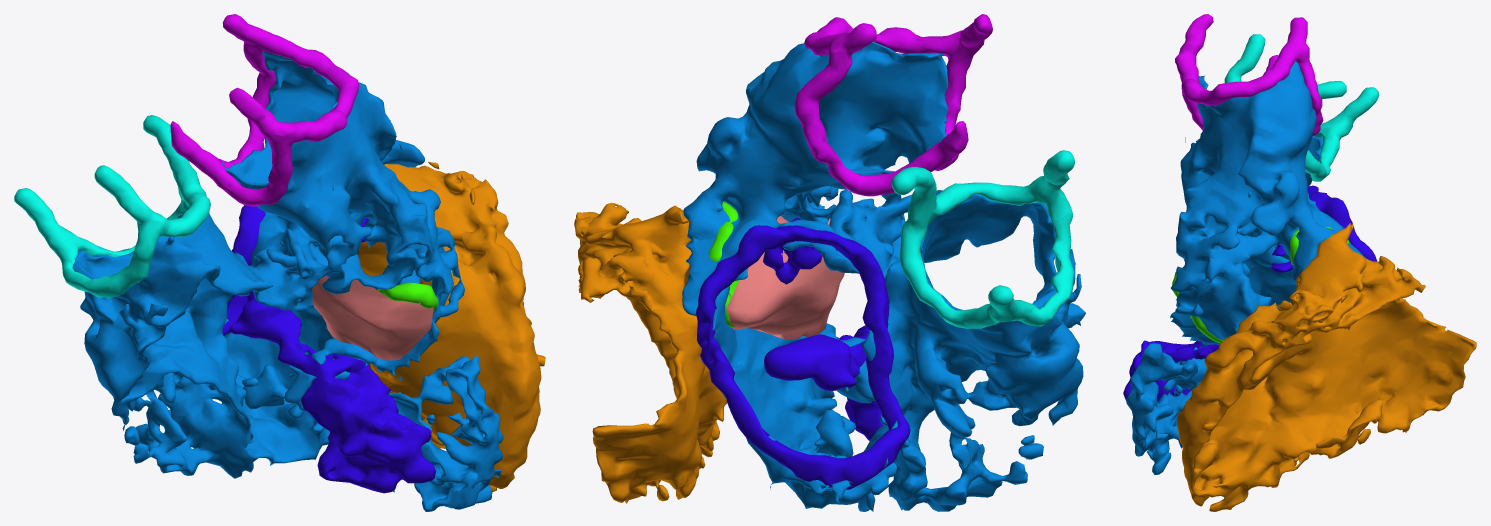
The model's file is {S,D,L} DORV, SubAoVSD 3.gltf.
3 views of the same model, side by side, from view 1: azimuth 30°, elevation 25°; view 2: azimuth 150°, elevation 25°; view 3: azimuth 270°, elevation 25° (orthographic). The views are drawn at different scales.
Parts seen in each view (by area): view 1: right ventricle, left ventricle, tv, aov, pv, Baffle, vsd; view 2: right ventricle, left ventricle, tv, pv, aov, Baffle, vsd; view 3: left ventricle, right ventricle, aov, pv, tv, vsd.
Part boxes in pixels (left/top/right/bottom): right ventricle: left=72, top=51, right=503, bottom=511; left ventricle: left=358, top=161, right=545, bottom=492; tv: left=174, top=205, right=435, bottom=493; aov: left=170, top=14, right=359, bottom=206; pv: left=14, top=115, right=210, bottom=297; Baffle: left=312, top=275, right=433, bottom=360; vsd: left=377, top=282, right=438, bottom=320; right ventricle: left=682, top=41, right=1085, bottom=511; left ventricle: left=574, top=202, right=727, bottom=503; tv: left=696, top=218, right=910, bottom=489; pv: left=891, top=150, right=1074, bottom=328; aov: left=794, top=14, right=992, bottom=196; Baffle: left=726, top=215, right=844, bottom=339; vsd: left=708, top=201, right=739, bottom=327; left ventricle: left=1177, top=223, right=1476, bottom=511; right ventricle: left=1126, top=61, right=1366, bottom=474; aov: left=1175, top=14, right=1323, bottom=136; pv: left=1224, top=34, right=1379, bottom=181; tv: left=1123, top=185, right=1377, bottom=401; vsd: left=1172, top=227, right=1349, bottom=343.
Bounding box in the file's own units: 64.04 × 68.87 × 53.54.
